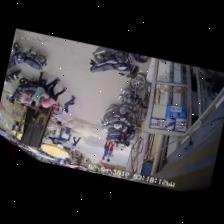person: (31, 71, 59, 106), (39, 83, 66, 109), (57, 95, 75, 124), (20, 90, 31, 105), (71, 137, 81, 153), (107, 142, 115, 161), (103, 140, 110, 159)
